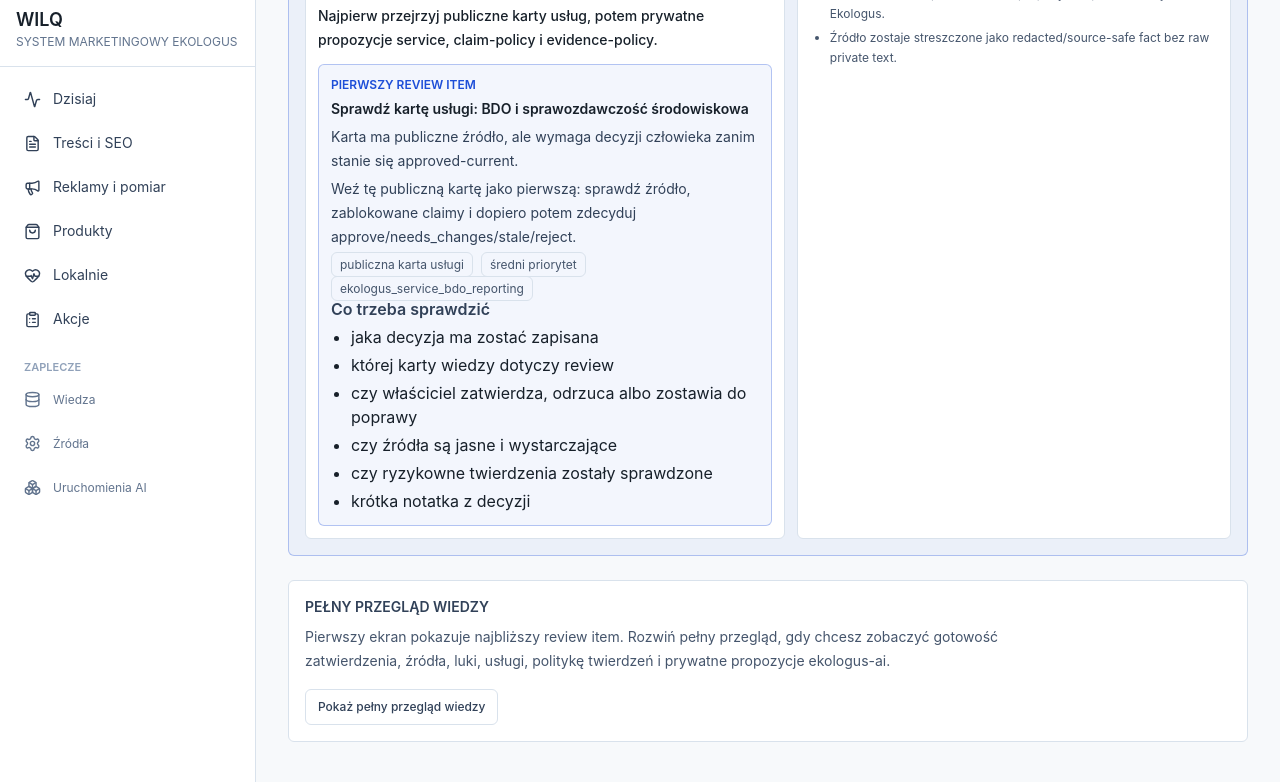
Test: ServiceProfileSurface › renders a read-only Polish service profile without edit controls
(page scrolled)
Expected: the heading "Pełny przegląd wiedzy" is shown, [305,598,489,615]
Click the button "Pokaż pełny przegląd wiedzy".
click(402, 707)  # box [305,689,498,725]
(page scrolled)
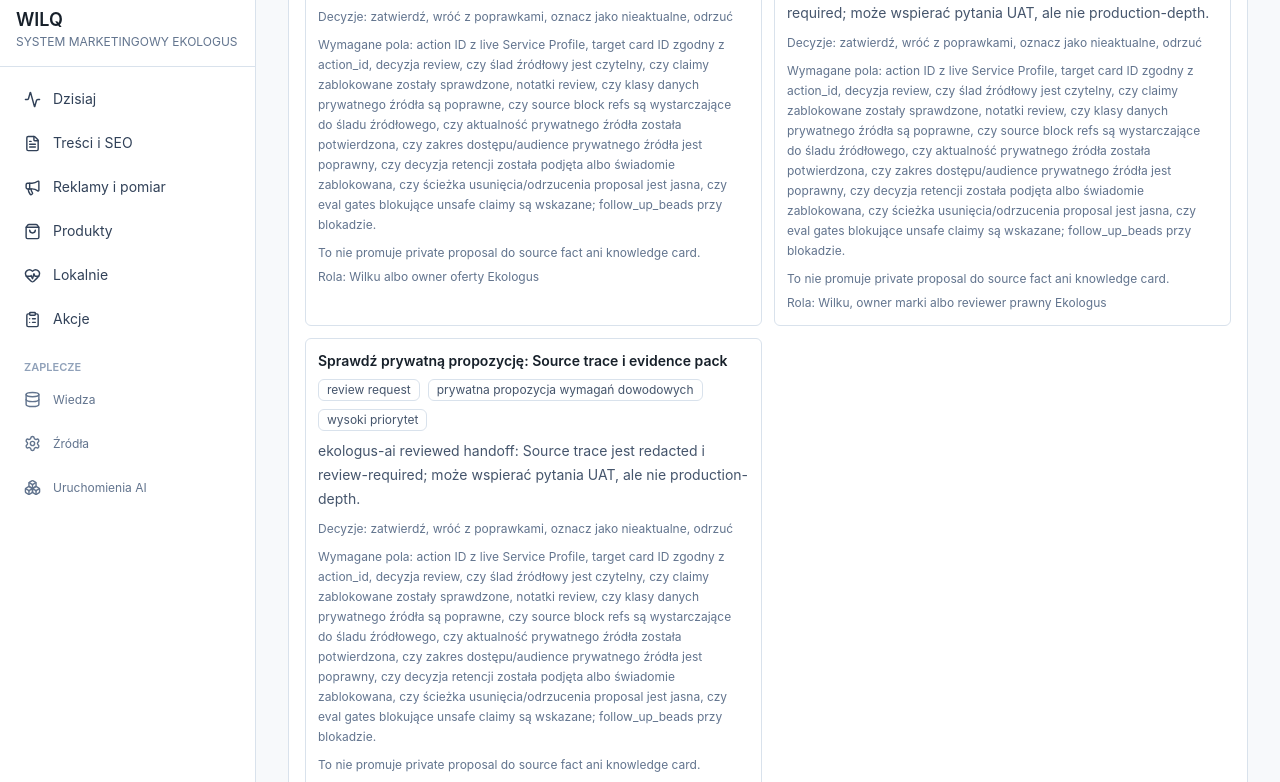
Now the text "prywatna propozycja wymagań dowodowych" is shown, box [428,379,702,401]
